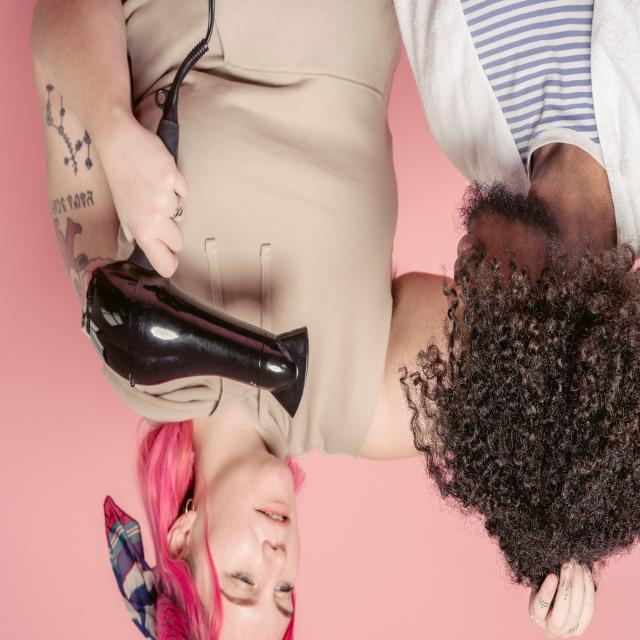dryer: (82, 39, 311, 421)
